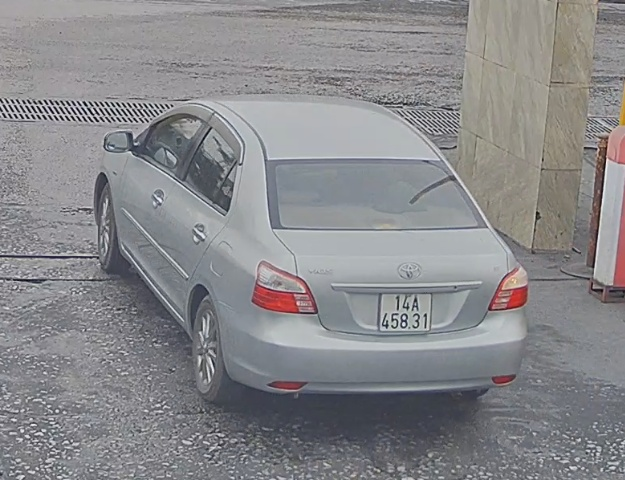vehicle plate: (375, 286, 436, 337)
